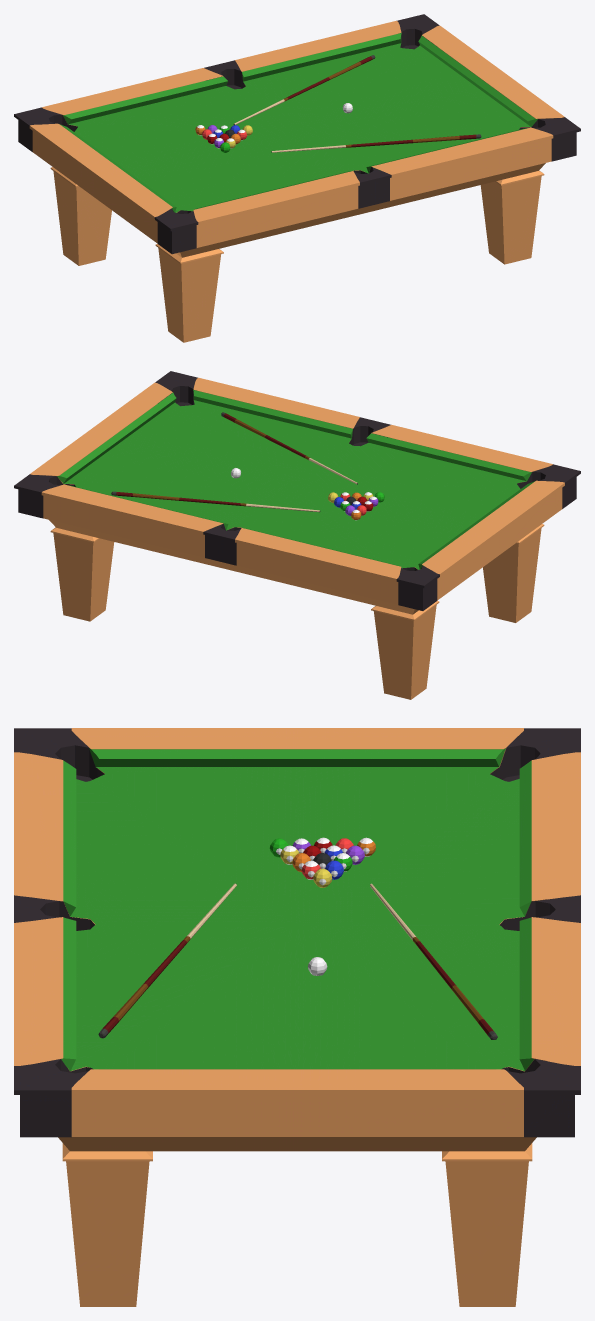
The model's file is PoolTable-transformed.glb.
3 views of the same model, one above another, from view 1: azimuth 30°, elevation 25°; view 2: azimuth 150°, elevation 25°; view 3: azimuth 270°, elevation 25° (orthographic). The views are drawn at different scales.
Visible parts, largest first — view 1: Object_5, Object_4, Object_6, Object_8; view 2: Object_5, Object_4, Object_6, Object_8; view 3: Object_5, Object_4, Object_6, Object_8.
Boxes of the visible parts, x1=… form: Object_5: x1=59, y1=32, x2=537, y2=212; Object_4: x1=29, y1=20, x2=564, y2=342; Object_6: x1=14, y1=14, x2=580, y2=254; Object_8: x1=195, y1=55, x2=481, y2=152; Object_5: x1=57, y1=389, x2=534, y2=569; Object_4: x1=30, y1=377, x2=564, y2=699; Object_6: x1=14, y1=371, x2=580, y2=610; Object_8: x1=111, y1=412, x2=384, y2=520; Object_5: x1=61, y1=748, x2=533, y2=1071; Object_4: x1=14, y1=728, x2=580, y2=1306; Object_6: x1=14, y1=728, x2=580, y2=1137; Object_8: x1=98, y1=837, x2=497, y2=1039.
Bounding box in the file's own units: 15.29 × 4.85 × 10.12.
4 materials, 4 textured.
